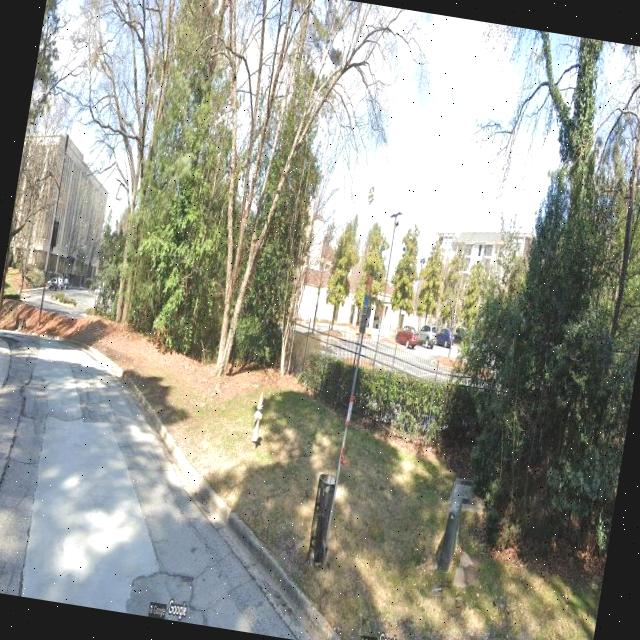trash_can: (306, 468, 339, 564)
